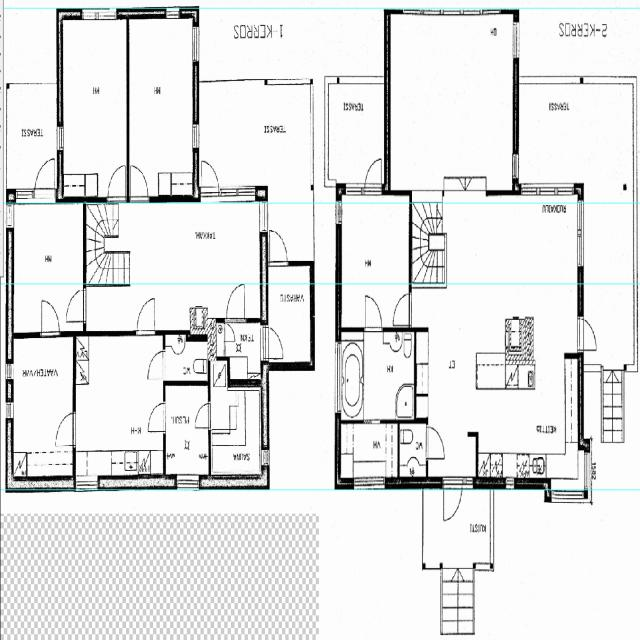door: (34, 152, 55, 204), (443, 477, 462, 524), (577, 316, 602, 351), (201, 154, 219, 202), (262, 327, 287, 359), (364, 152, 382, 196), (64, 289, 86, 324), (41, 296, 60, 336), (226, 284, 245, 323), (54, 412, 76, 445), (108, 165, 126, 203), (130, 166, 148, 203), (270, 230, 288, 267), (137, 298, 154, 336), (146, 402, 166, 432), (365, 296, 382, 331), (393, 294, 412, 324), (426, 428, 445, 458), (148, 351, 166, 378), (195, 403, 211, 428), (223, 324, 234, 342)
